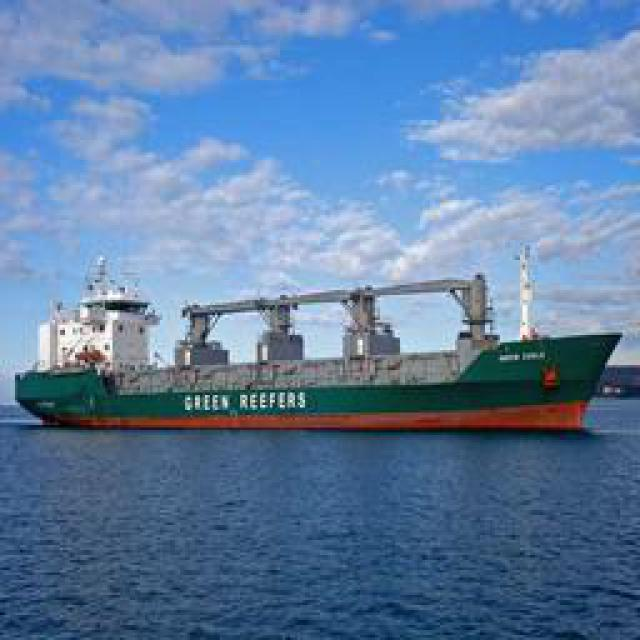Ship: (25, 251, 620, 434)
